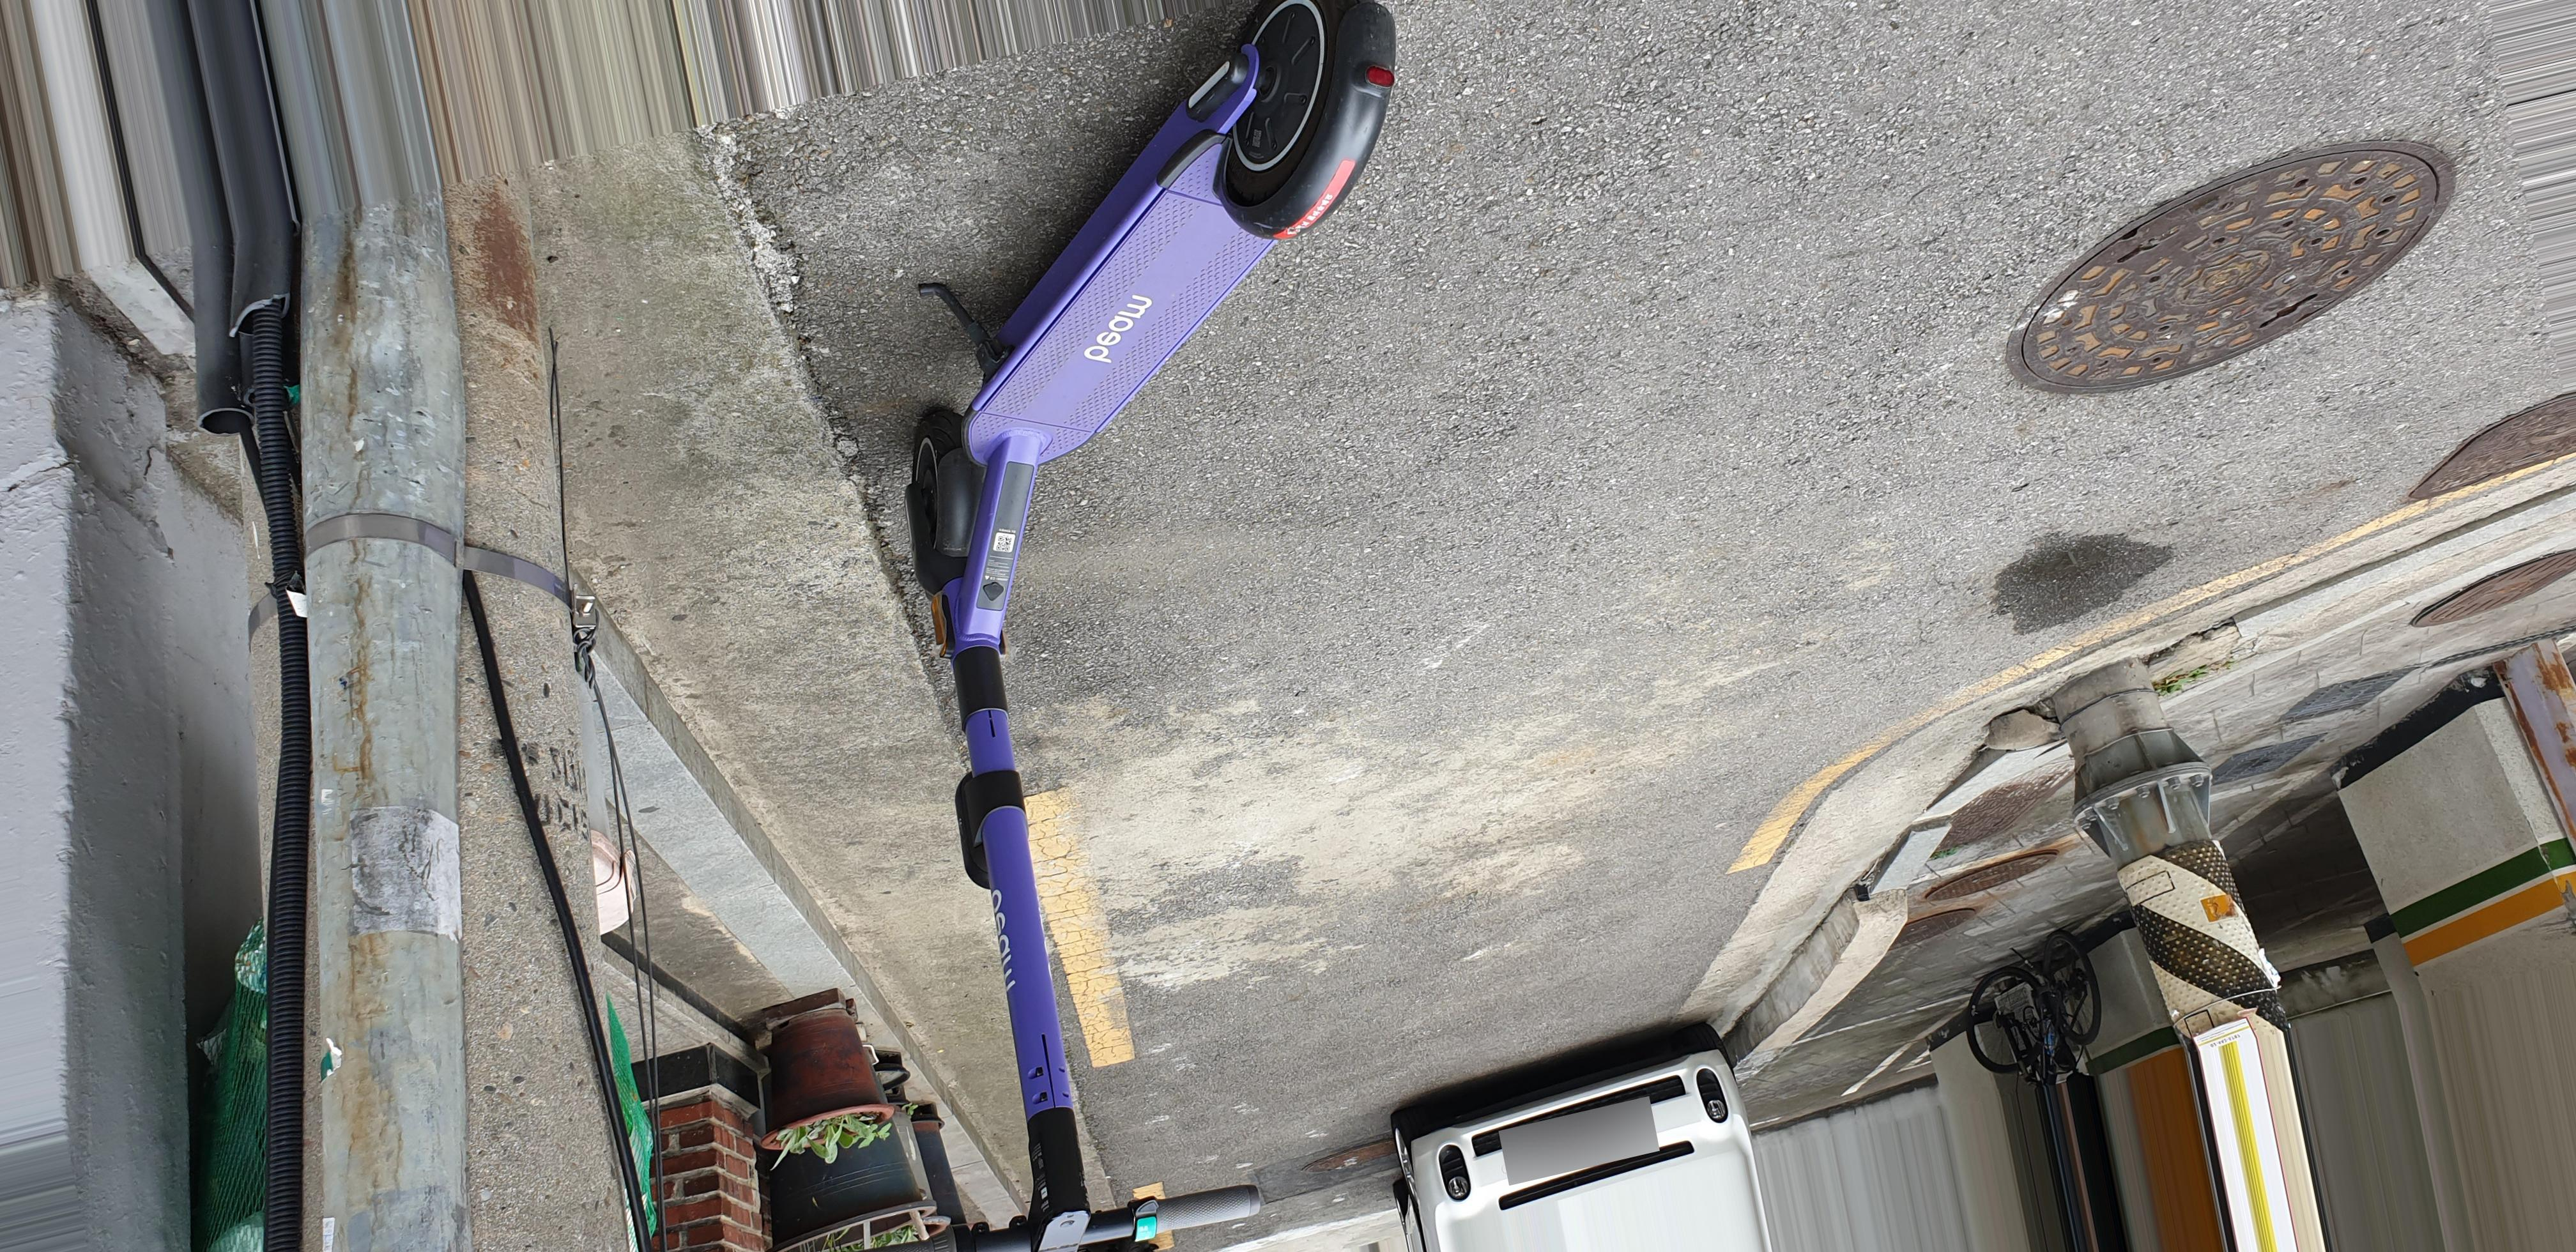scooter: (904, 3, 1401, 1252)
